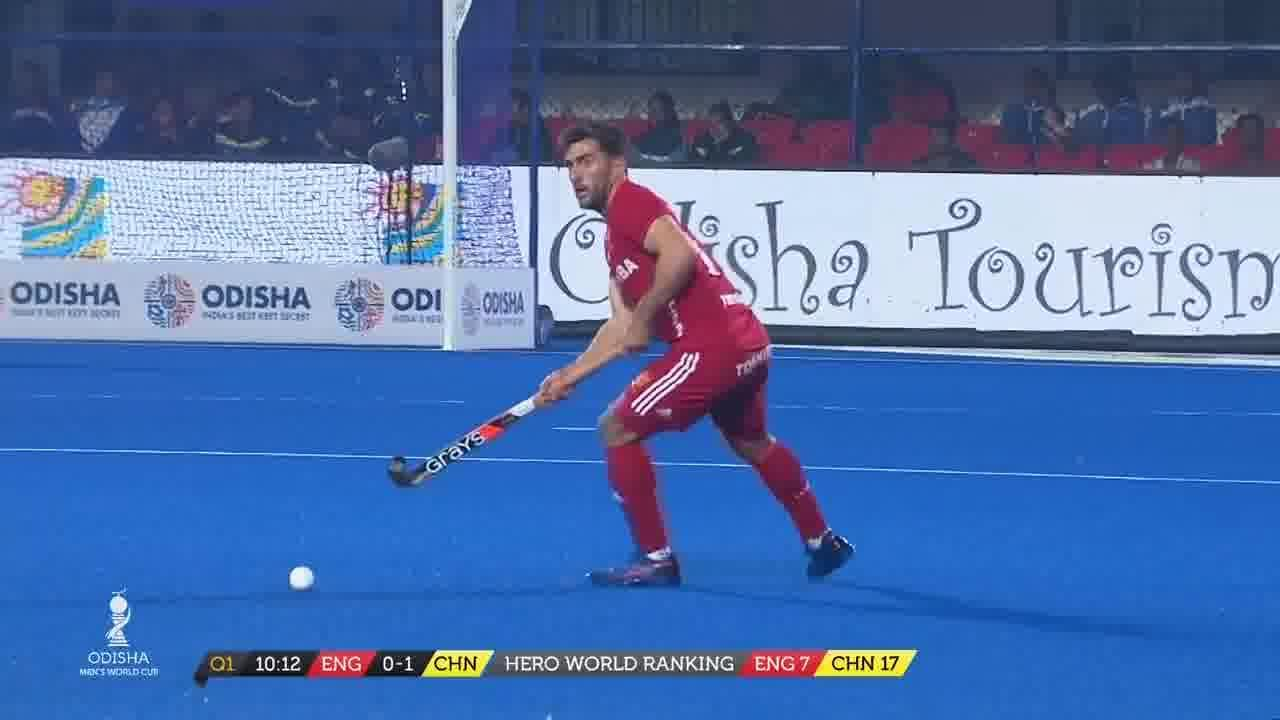ball: (288, 564, 315, 592)
